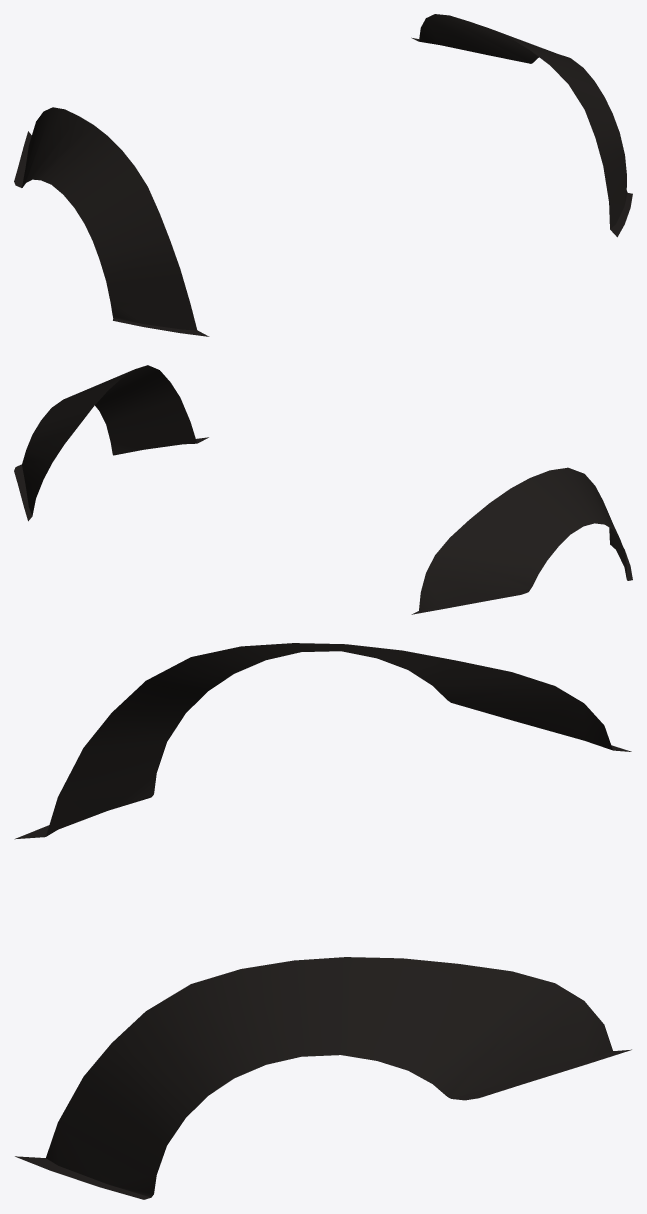
The model's file is RWB_993_RF_01_Trim.fbx.
3 views of the same model, one above another, from view 1: azimuth 30°, elevation 25°; view 2: azimuth 150°, elevation 25°; view 3: azimuth 270°, elevation 25° (orthographic). The views are drawn at different scales.
Visible parts, largest first — view 1: RWB_993_RF_01_Trim; view 2: RWB_993_RF_01_Trim; view 3: RWB_993_RF_01_Trim.
Boxes of the visible parts, left/top/right/bottom form: RWB_993_RF_01_Trim: left=14, top=14, right=632, bottom=336; RWB_993_RF_01_Trim: left=14, top=365, right=632, bottom=614; RWB_993_RF_01_Trim: left=14, top=643, right=631, bottom=1199.
Bounding box in the file's own units: 198 × 44.9 × 128.
